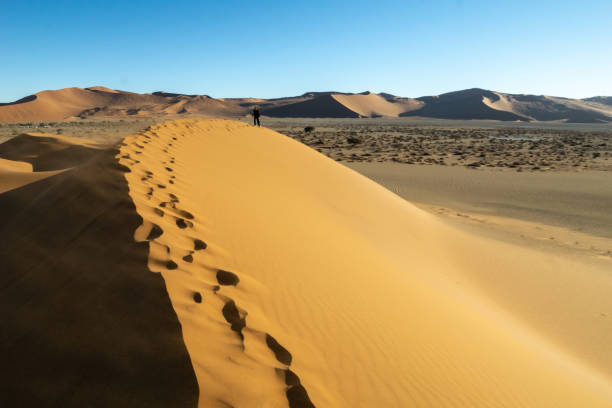human_footprint: (135, 153, 312, 407), (222, 299, 245, 340), (216, 270, 239, 285), (146, 224, 163, 240), (182, 251, 193, 262)
